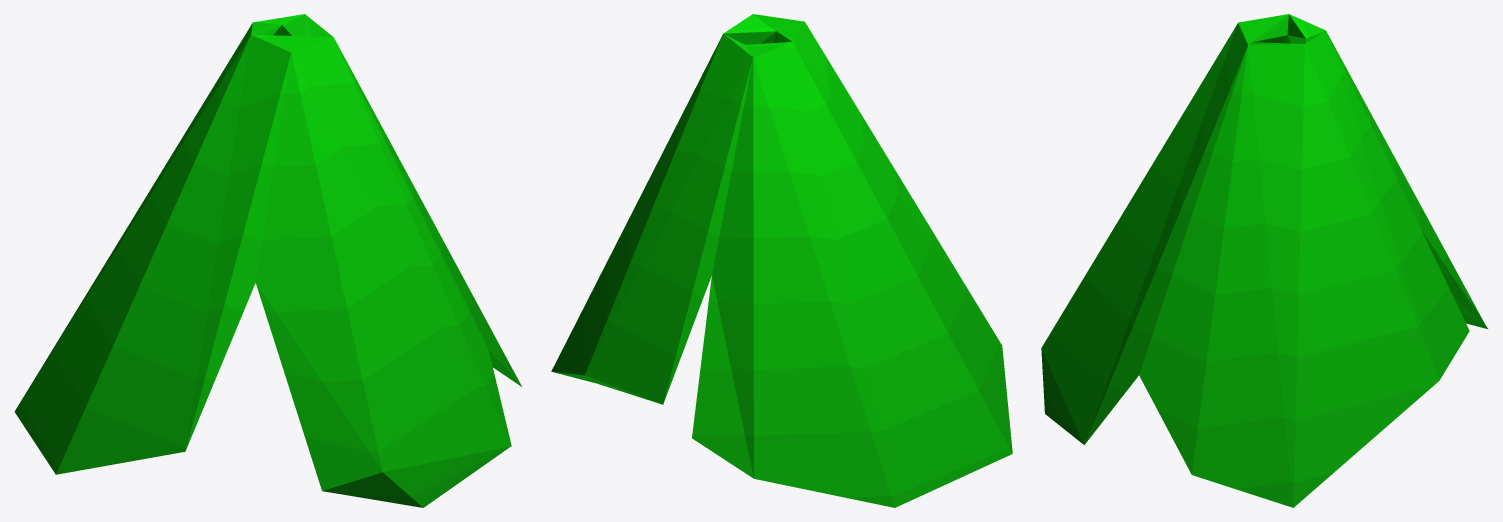
File: Prefab_Foliage_Tree_Spruce_Leaves_F.glb
3 renders of one model, left to right at view 1: azimuth 30°, elevation 25°; view 2: azimuth 150°, elevation 25°; view 3: azimuth 270°, elevation 25°, orthographic. The views are drawn at different scales.
Parts seen in each view (by area): view 1: Spruce_A_Trunk.009; view 2: Spruce_A_Trunk.009; view 3: Spruce_A_Trunk.009.
Boxes of the visible parts, bbox=[...] form: Spruce_A_Trunk.009: bbox=[14, 14, 521, 507]; Spruce_A_Trunk.009: bbox=[551, 14, 1012, 507]; Spruce_A_Trunk.009: bbox=[1041, 14, 1487, 507].
Size of the model in its own units: 3.97 by 3.3 by 3.52.
Materials: 1 (1 with a texture image).
